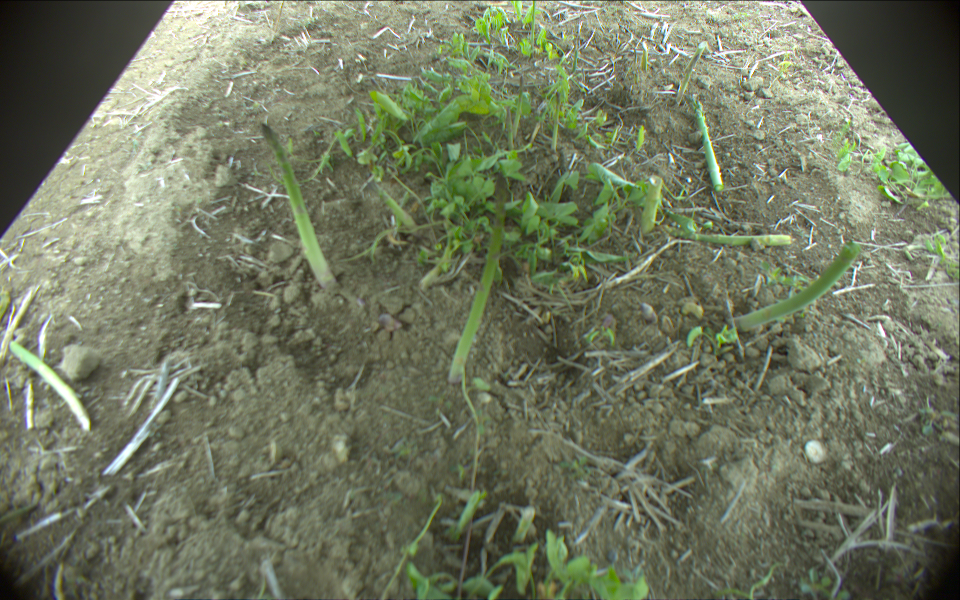aspa: (260, 123, 341, 287), (722, 240, 863, 334), (449, 176, 509, 389), (5, 335, 94, 433), (364, 172, 418, 235), (695, 104, 725, 191), (678, 42, 709, 101), (680, 230, 796, 245), (639, 174, 662, 239), (529, 1, 535, 42), (642, 44, 650, 71)
